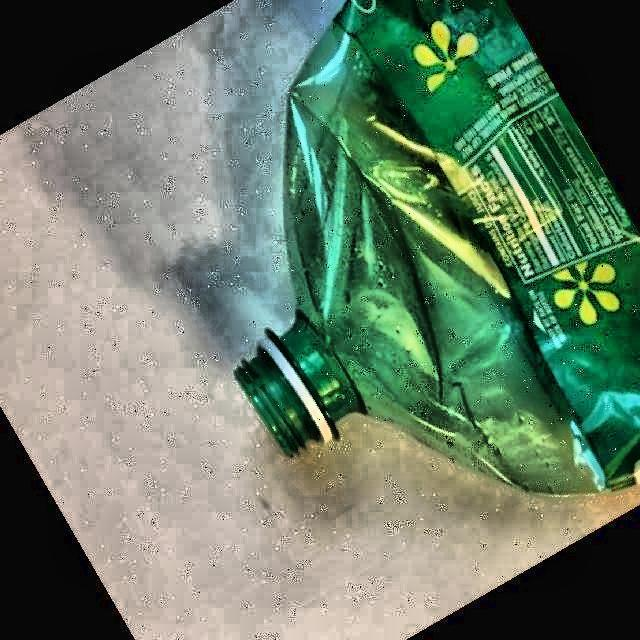plastic: (236, 0, 640, 494)
